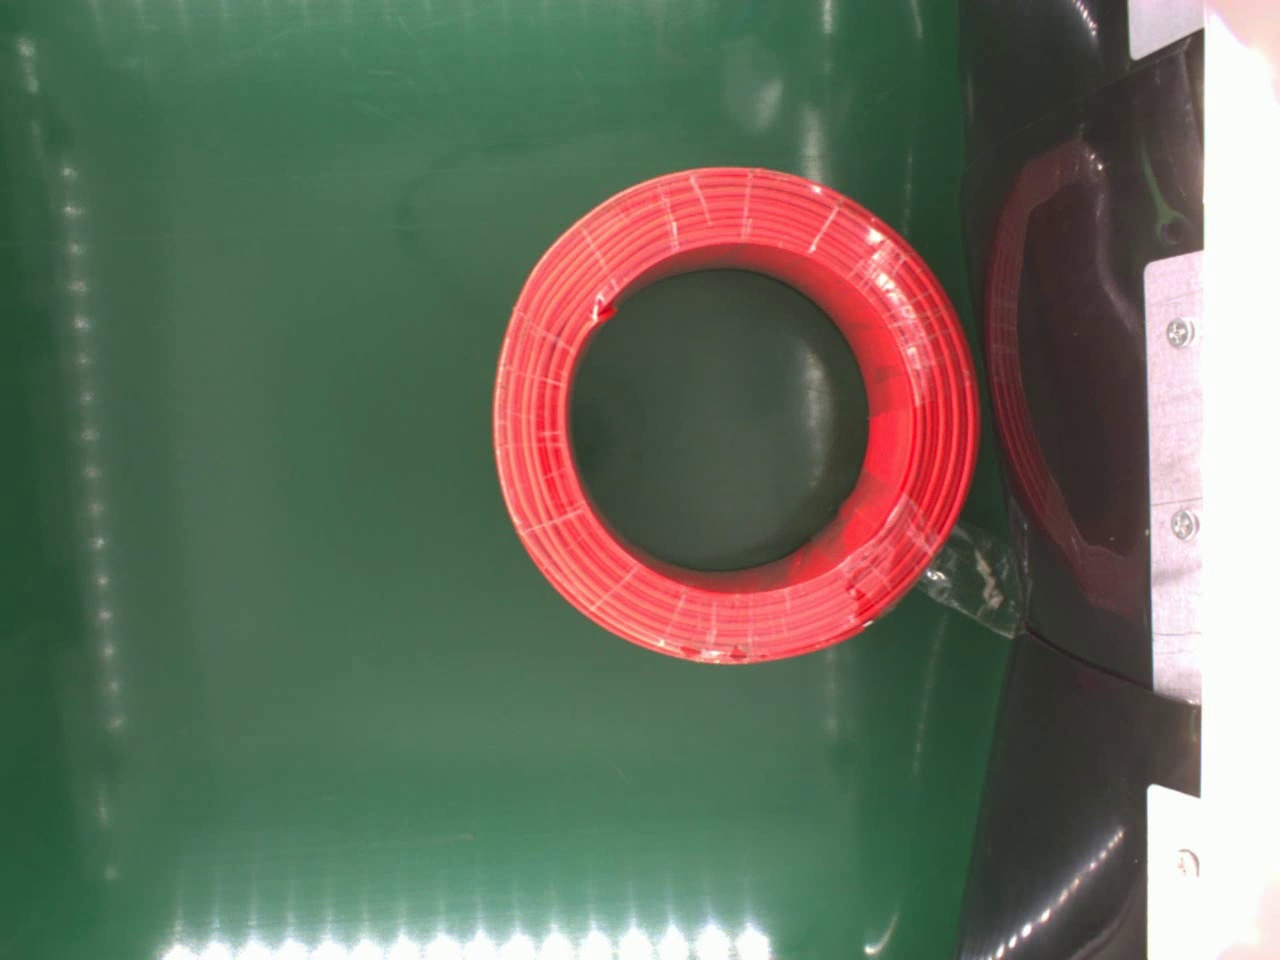red: (488, 162, 982, 667)
